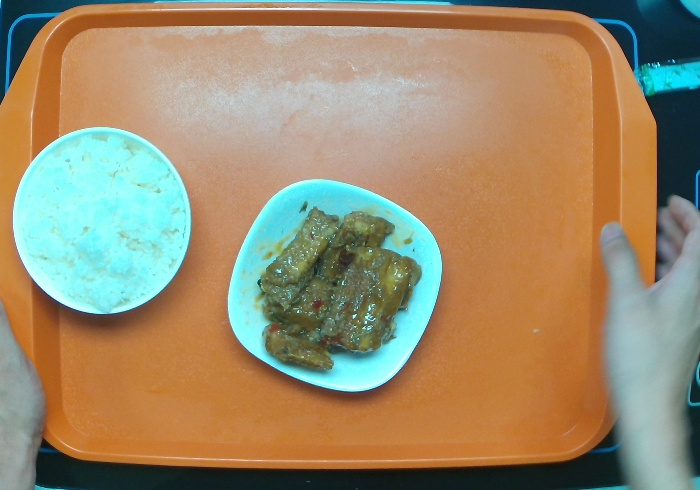ZNLD-Fan_Wan: (10, 124, 195, 319)
ZNLD-Si_Fang_Wan: (225, 175, 444, 395)
